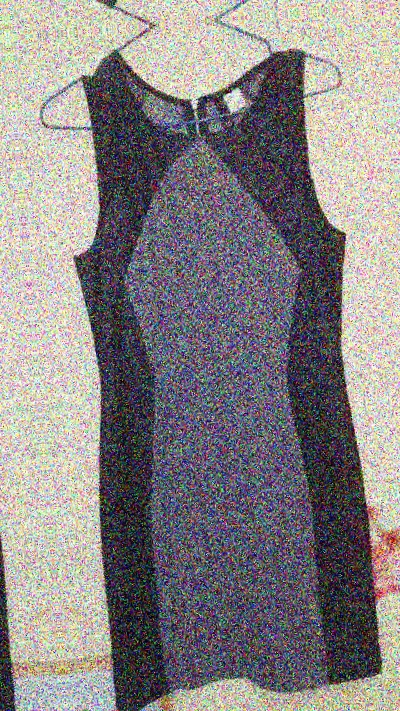Dress: (22, 14, 400, 711), (0, 45, 53, 711), (0, 0, 351, 30)
